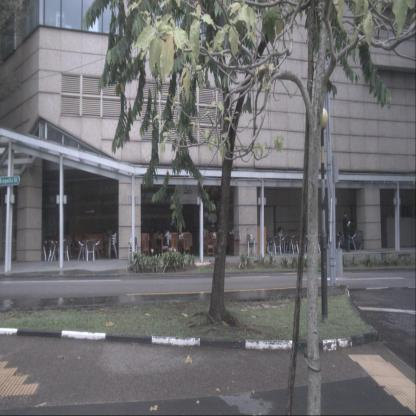human-pedestrian-adult: (340, 210, 351, 252), (278, 226, 288, 253), (162, 227, 171, 256), (152, 229, 161, 256)
